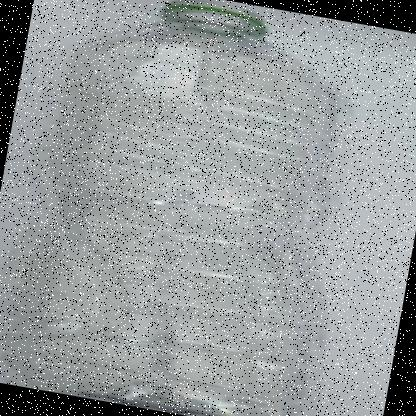open bottle: (36, 1, 385, 192)
